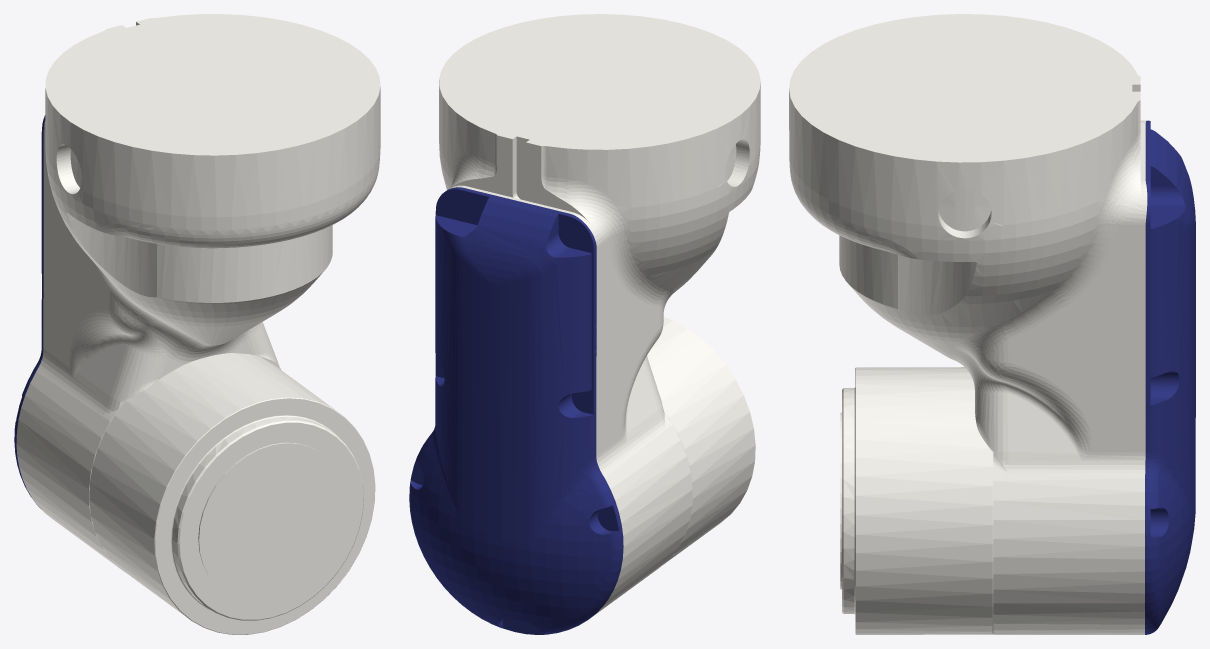
3 renders of one model, left to right at view 1: azimuth 30°, elevation 25°; view 2: azimuth 150°, elevation 25°; view 3: azimuth 270°, elevation 25°, orthographic. The views are drawn at different scales.
Visible parts, largest first — view 1: Link_R; view 2: Link_R; view 3: Link_R.
Part boxes in pixels (<box>): Link_R: <box>14,14,380,634</box>; Link_R: <box>409,14,760,634</box>; Link_R: <box>789,14,1195,634</box>.
Bounding box in the file's own units: 0.105 × 0.1215 × 0.176.
Materials: 1 (1 with a texture image).
